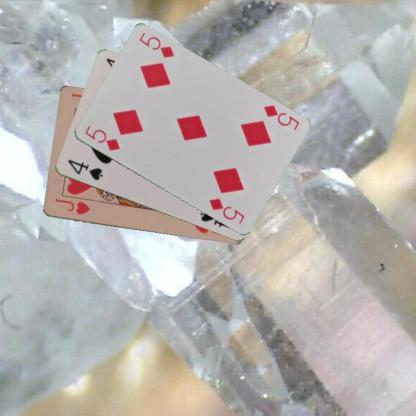4s: (65, 157, 104, 182)
5d: (260, 102, 300, 132), (82, 122, 121, 152)
Jh: (52, 196, 91, 216)
